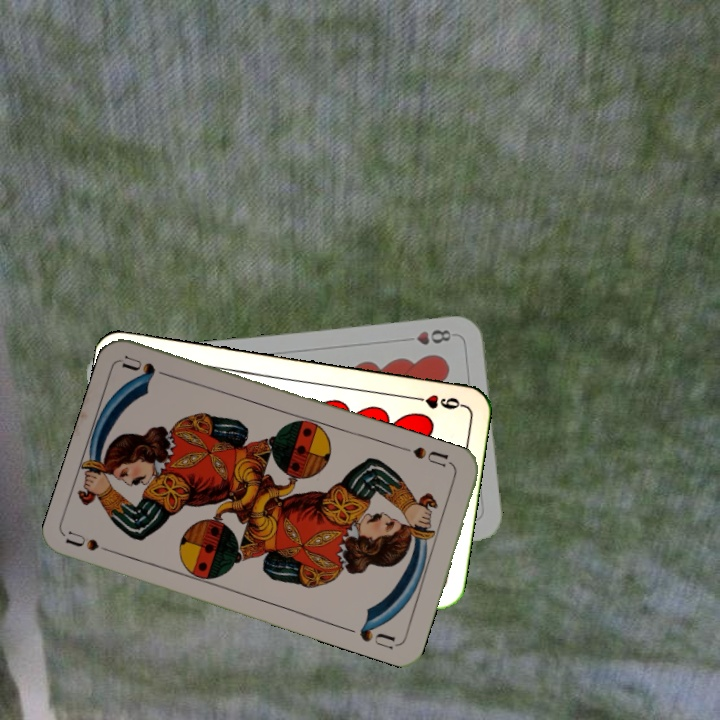H8: (399, 326, 454, 348)
H9: (406, 390, 465, 412)
SU: (64, 526, 122, 558), (409, 443, 456, 470)
